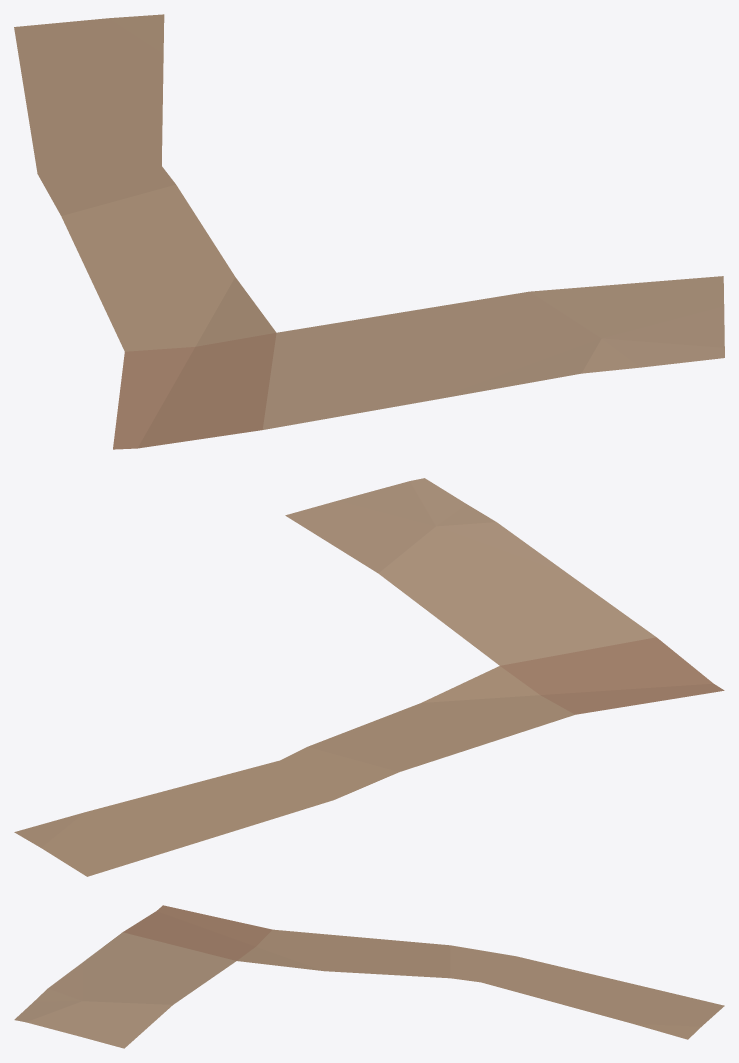
The model's file is farm_-57_-42_soil.glb.
3 views of the same model, one above another, from view 1: azimuth 30°, elevation 25°; view 2: azimuth 150°, elevation 25°; view 3: azimuth 270°, elevation 25° (orthographic). The views are drawn at different scales.
Parts seen in each view (by area): view 1: geometry_0; view 2: geometry_0; view 3: geometry_0.
Part boxes in pixels (x1,y1,x2,y2): geometry_0: (14,14,724,449); geometry_0: (14,478,724,876); geometry_0: (14,905,724,1048).
Bounding box in the file's own units: 91.45 × 8.88 × 155.
